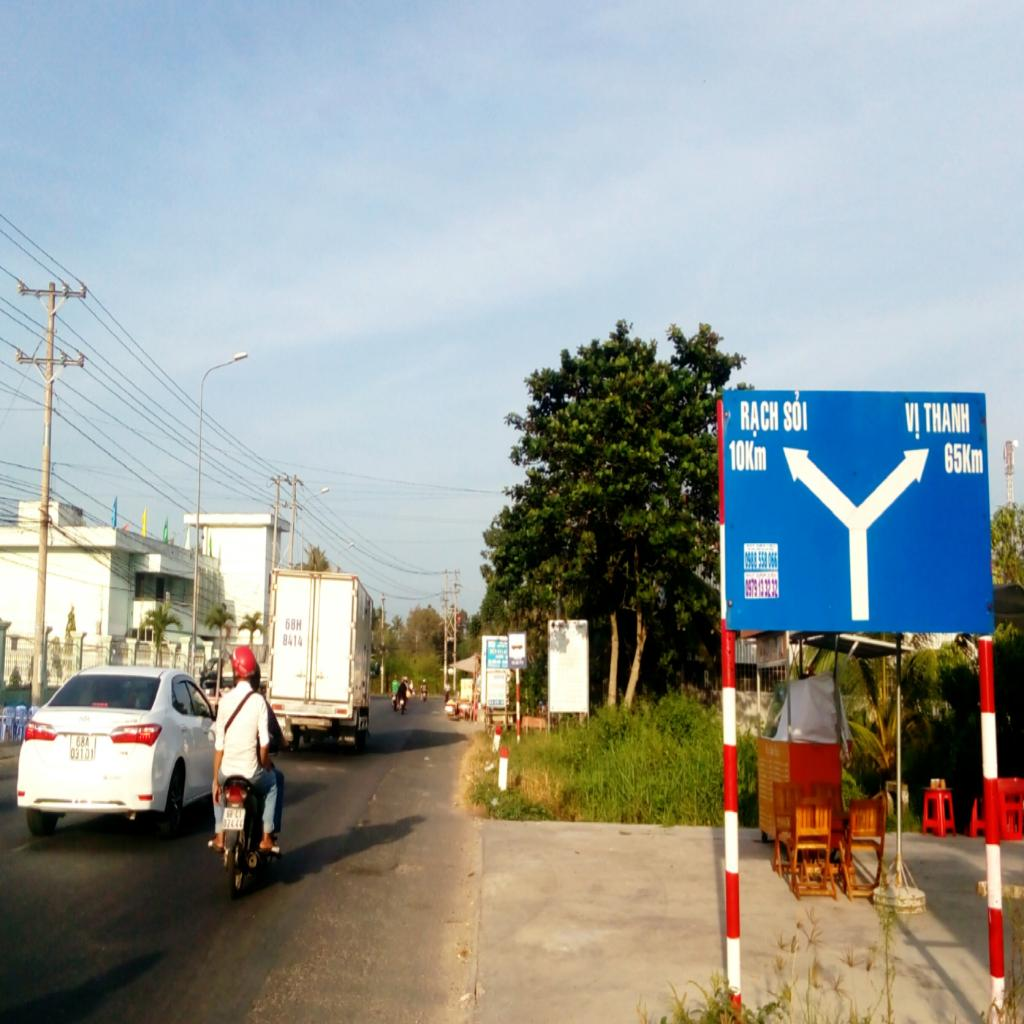text: (738, 398, 781, 439), (920, 402, 970, 436), (782, 390, 808, 434), (902, 402, 922, 441), (746, 439, 768, 472), (942, 442, 963, 474), (963, 443, 984, 474), (744, 578, 778, 597), (727, 440, 745, 472), (70, 748, 95, 761), (282, 634, 304, 648), (285, 617, 304, 633), (744, 551, 758, 570), (222, 818, 244, 829), (226, 808, 243, 820), (768, 552, 778, 571), (76, 735, 90, 748), (758, 551, 768, 569)
